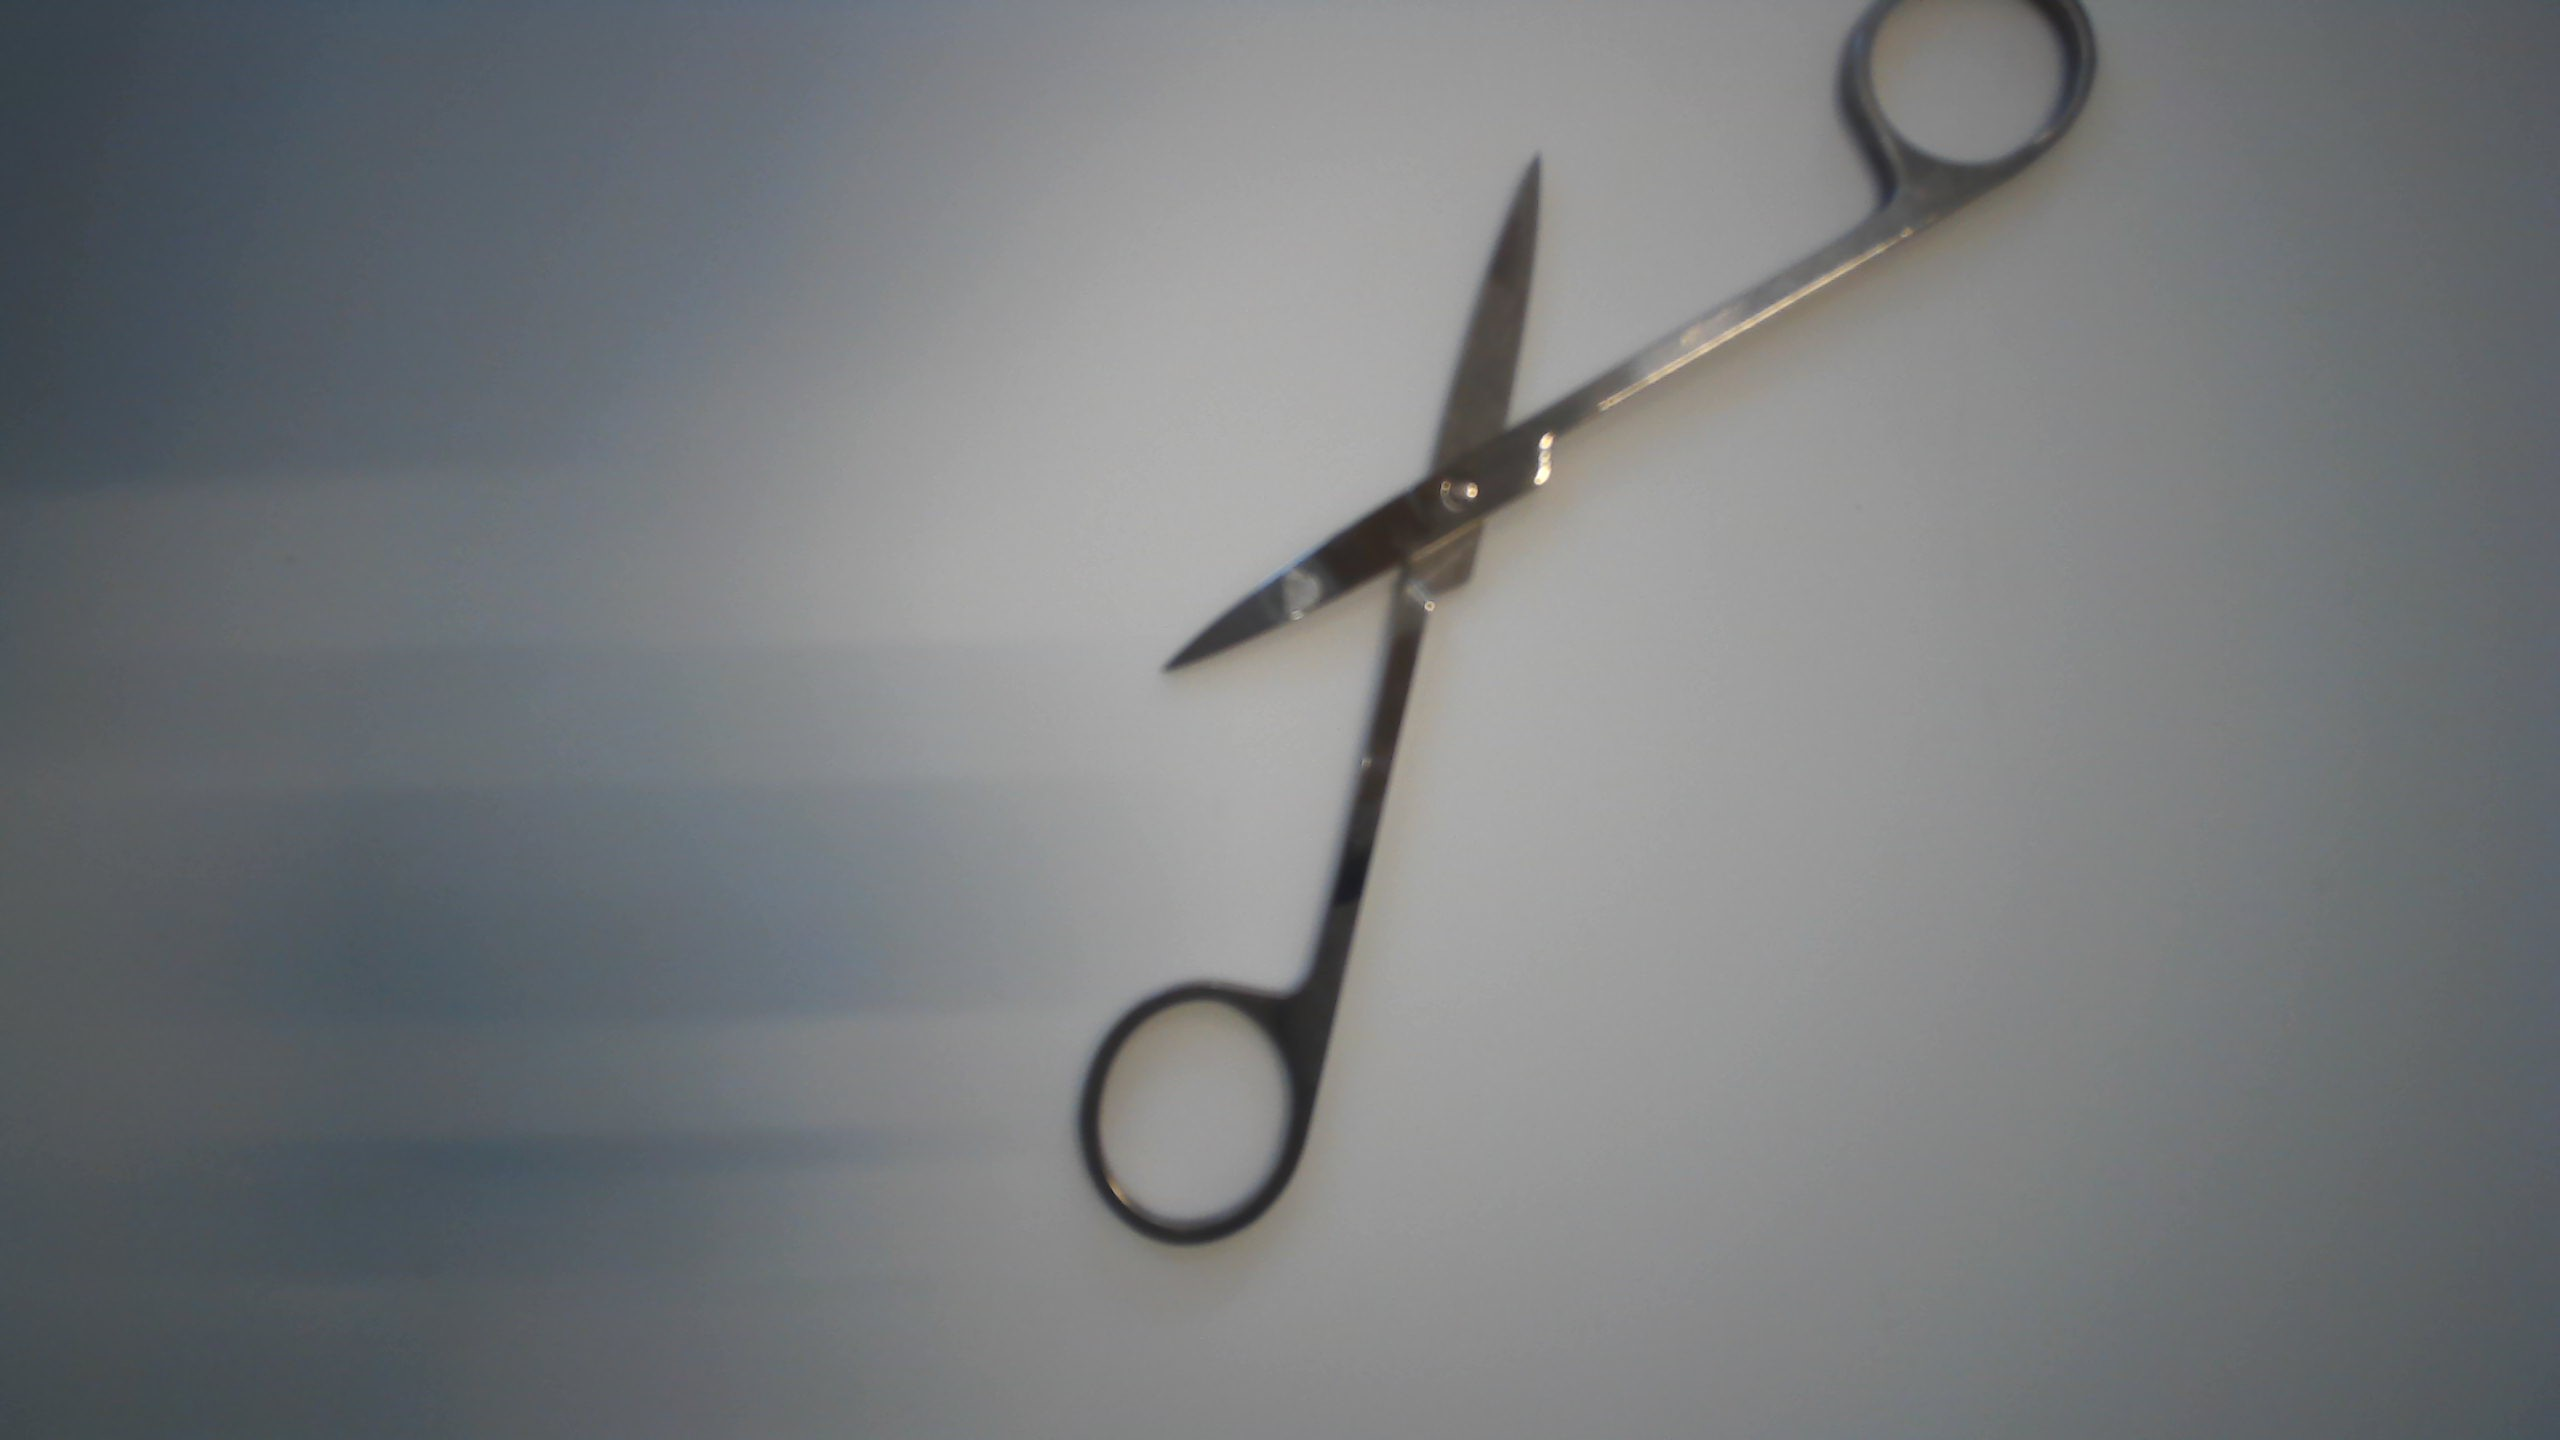Tissues: (1264, 559, 1322, 622)
